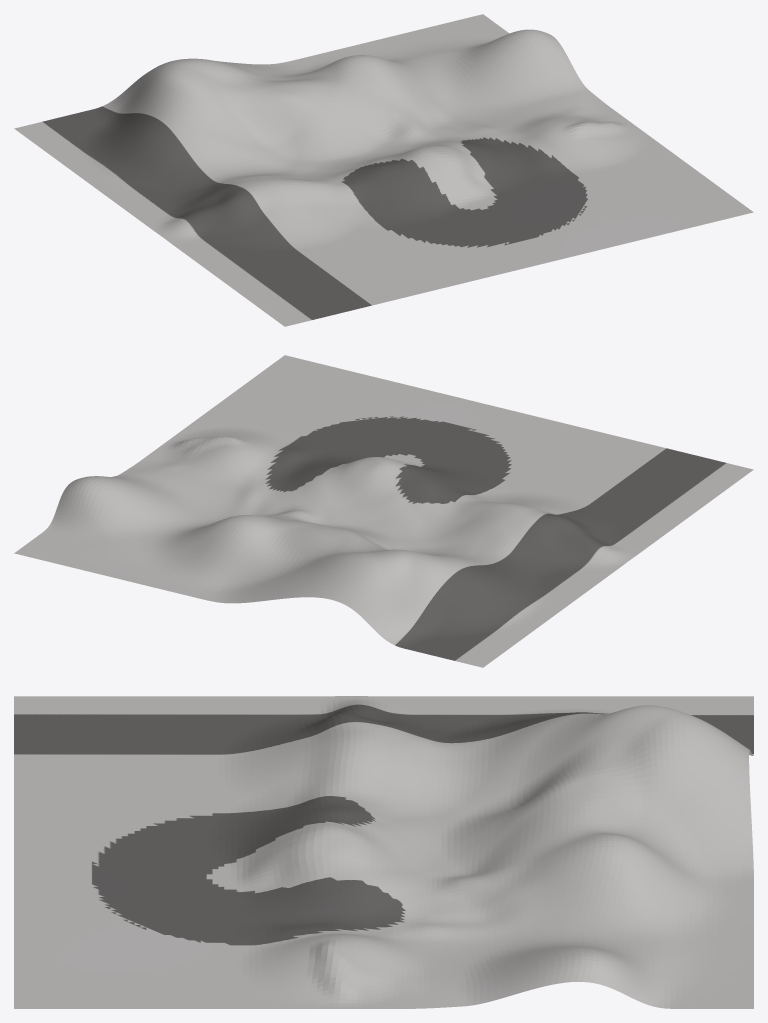
The model's file is Terrain3  - 200M.fbx.
3 views of the same model, one above another, from view 1: azimuth 30°, elevation 25°; view 2: azimuth 150°, elevation 25°; view 3: azimuth 270°, elevation 25° (orthographic). The views are drawn at different scales.
Parts seen in each view (by area): view 1: Plane; view 2: Plane; view 3: Plane.
Part boxes in pixels (<box>): Plane: <box>14,14,753,326</box>; Plane: <box>14,355,753,667</box>; Plane: <box>14,696,753,1008</box>.
Bounding box in the file's own units: 36922 × 4218 × 36430.
